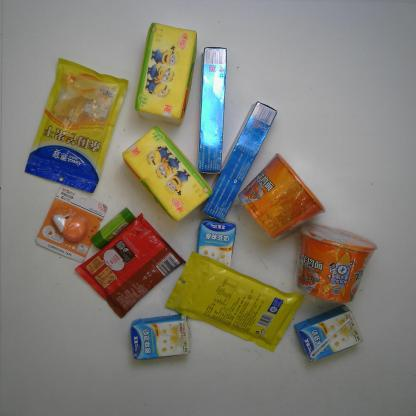Dessert: (74, 211, 187, 319)
Dried Fruit: (19, 54, 132, 196), (164, 250, 306, 353)
Instant Noodles: (238, 153, 326, 246), (293, 219, 379, 308)
Milk: (292, 302, 363, 364), (192, 215, 240, 281), (130, 312, 193, 362)
Personal Hygiene: (195, 97, 278, 226), (193, 44, 229, 176)
Stationery: (35, 180, 110, 267), (88, 206, 139, 252)
Tissue: (118, 122, 214, 224), (131, 21, 201, 128)
